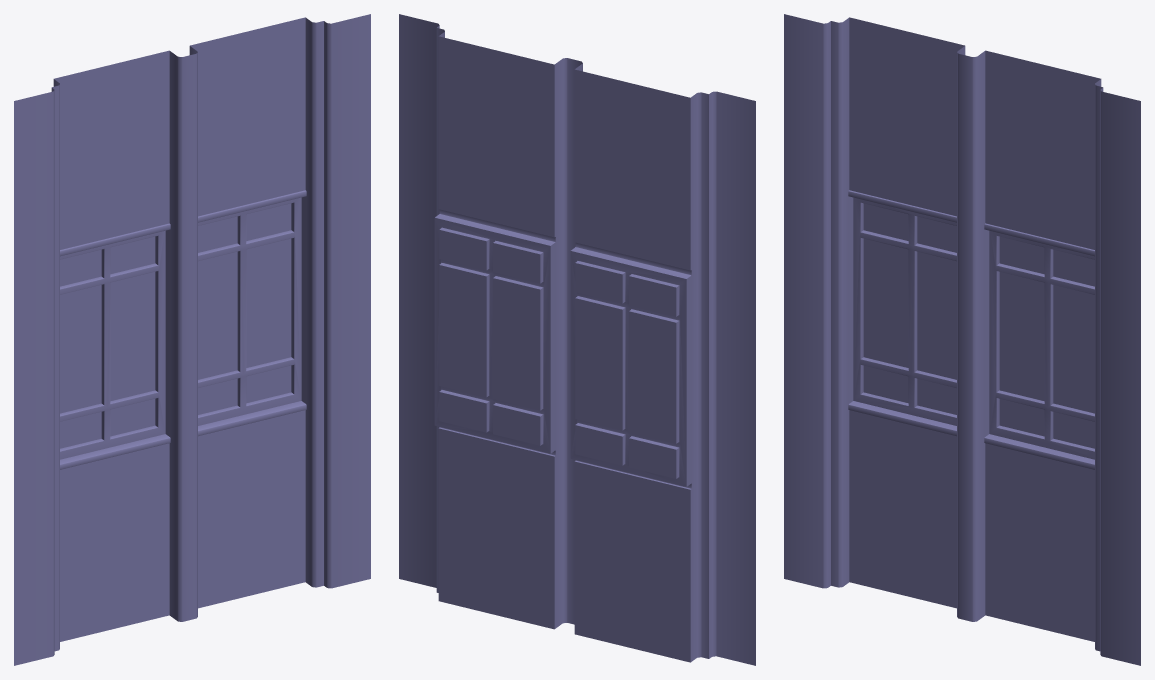
The model's file is M_A_window_06.fbx.
The picture shows the model from 3 angles, left to right: view 1: azimuth 30°, elevation 25°; view 2: azimuth 150°, elevation 25°; view 3: azimuth 330°, elevation 25°; orthographic projection.
Visible parts, largest first — view 1: M_A_window_06; view 2: M_A_window_06; view 3: M_A_window_06.
Part boxes in pixels (x1=…): M_A_window_06: x1=14, y1=14, x2=370, y2=665; M_A_window_06: x1=399, y1=14, x2=755, y2=665; M_A_window_06: x1=784, y1=14, x2=1140, y2=665.
Size of the model in its own units: 200 by 302 by 19.09.
